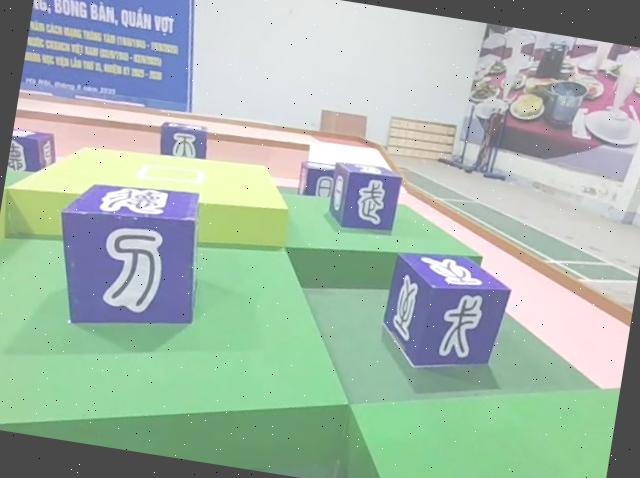R2 Fake Blue: (44, 174, 214, 347), (377, 247, 516, 383), (327, 159, 407, 237), (298, 160, 354, 211), (7, 129, 57, 180), (154, 119, 210, 164)
